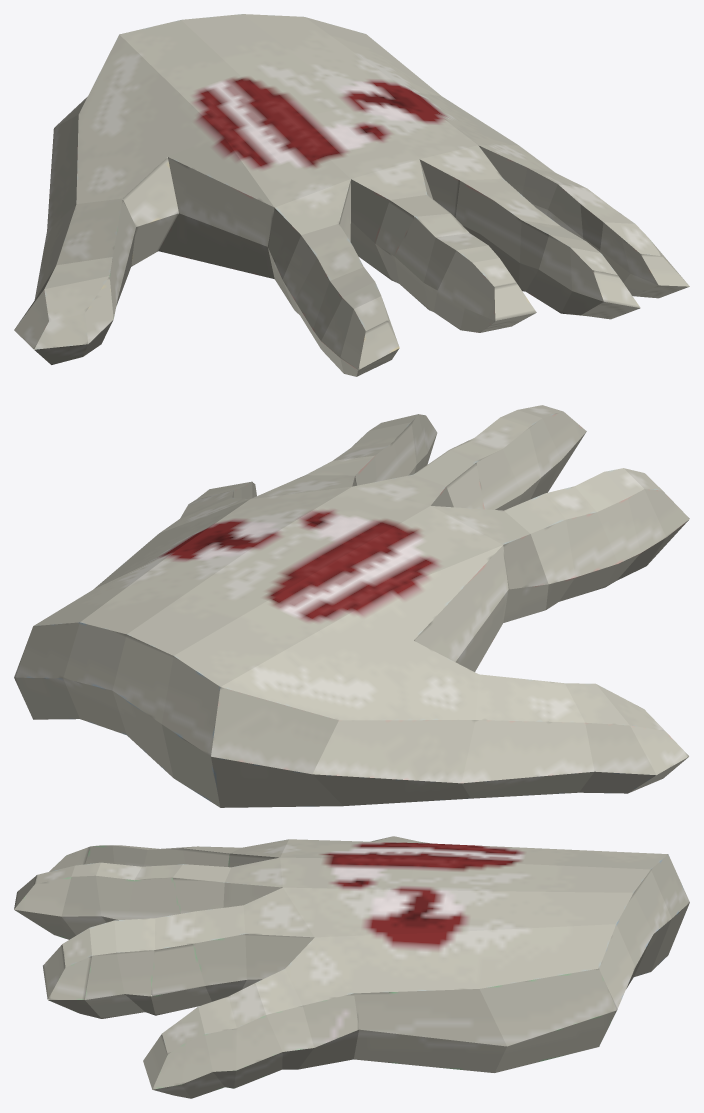
Rendered from HandBlood.fbx.
3 views of the same model, one above another, from view 1: azimuth 30°, elevation 25°; view 2: azimuth 150°, elevation 25°; view 3: azimuth 270°, elevation 25° (orthographic). The views are drawn at different scales.
Parts seen in each view (by area): view 1: Hand_blood; view 2: Hand_blood; view 3: Hand_blood.
Part boxes in pixels (x1=…): Hand_blood: x1=14, y1=14, x2=689, y2=376; Hand_blood: x1=14, y1=405, x2=689, y2=807; Hand_blood: x1=14, y1=836, x2=689, y2=1098.
Size of the model in its own units: 313 by 89.79 by 366.
1 material, 1 textured.
